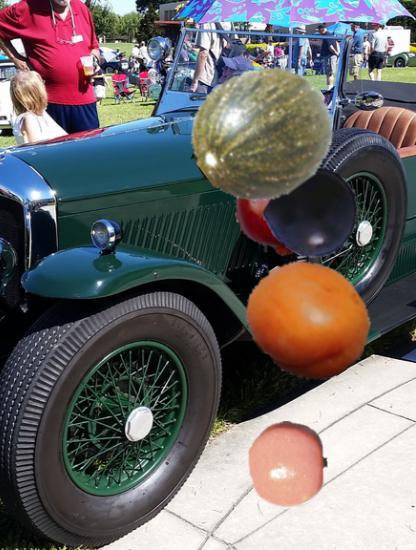Apricot: (245, 258, 371, 384)
Clementine: (244, 421, 333, 510)
Grape: (268, 167, 358, 257)
Melon: (192, 62, 335, 205)
Pomegranate: (235, 160, 332, 257)
Strawberry: (196, 106, 299, 209)
